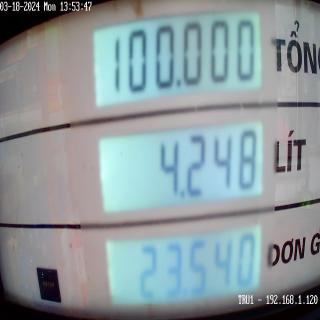screen: (89, 0, 268, 319)
